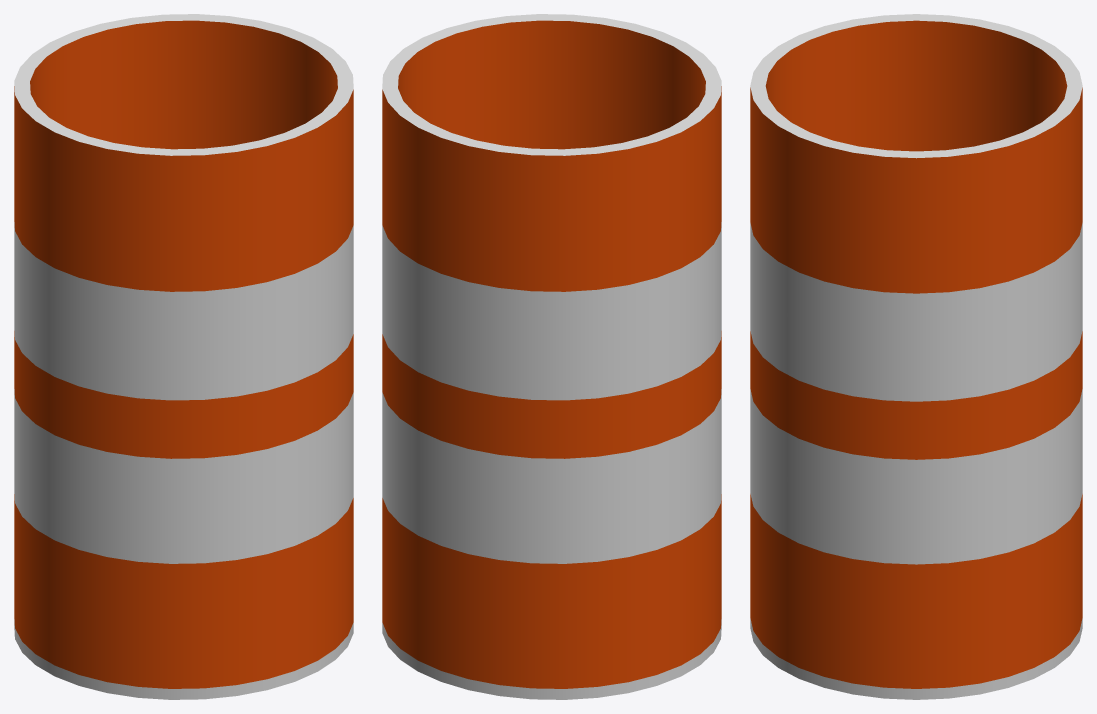
The model's file is Drum (standard).fbx.
3 renders of one model, left to right at view 1: azimuth 30°, elevation 25°; view 2: azimuth 150°, elevation 25°; view 3: azimuth 270°, elevation 25°, orthographic.
Visible parts, largest first — view 1: Cylinder; view 2: Cylinder; view 3: Cylinder.
Boxes of the visible parts, x1,y1,x2,y2 form: Cylinder: (14,14,353,699); Cylinder: (382,14,721,699); Cylinder: (750,14,1082,699).
Size of the model in its own units: 168 by 294 by 163.
